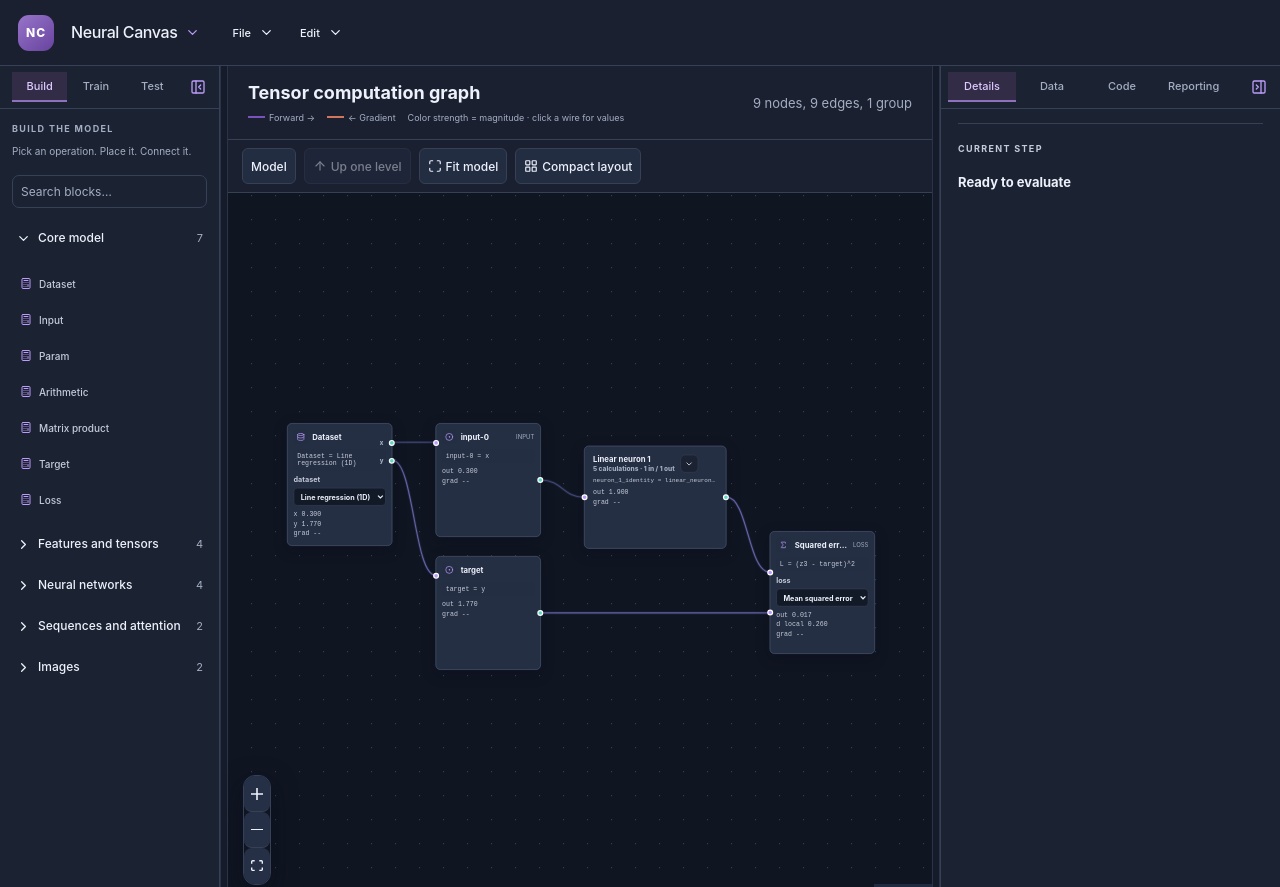
Test: Neural Canvas app › runs configured epochs by shortcut with the left sidebar collapsed and reports at the chosen interval
Click the tab "Train" at point(96, 87), box [68,72,124,102]
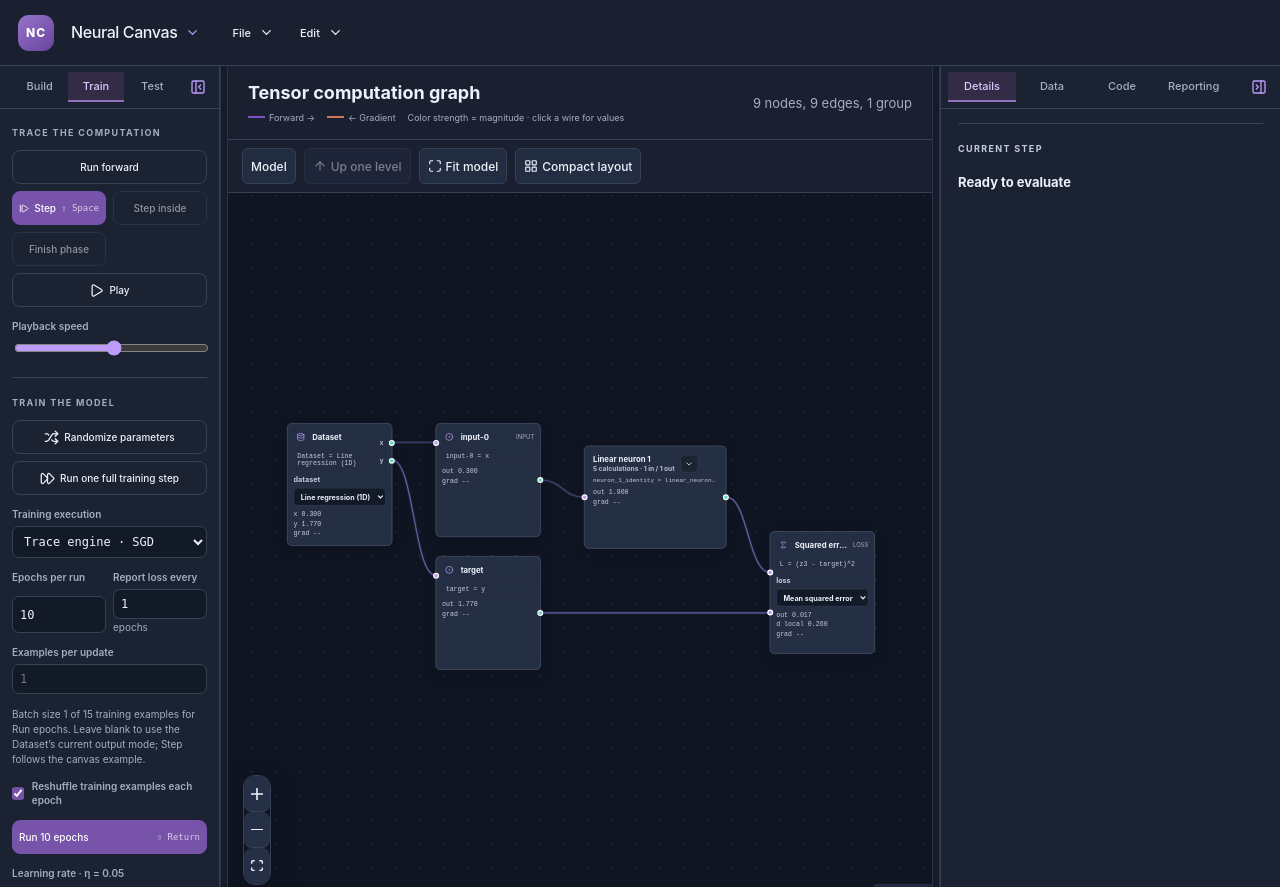
Replace the text in the number field labelled "Epochs per run" with "5" at point(59, 614), box [12,596,106,633]
Replace the text in the number field labelled "Report loss every epochs" with "2" at point(160, 604), box [113,589,207,619]
Click the button named "Collapse left sidebar" at point(198, 87), box [184,74,211,100]
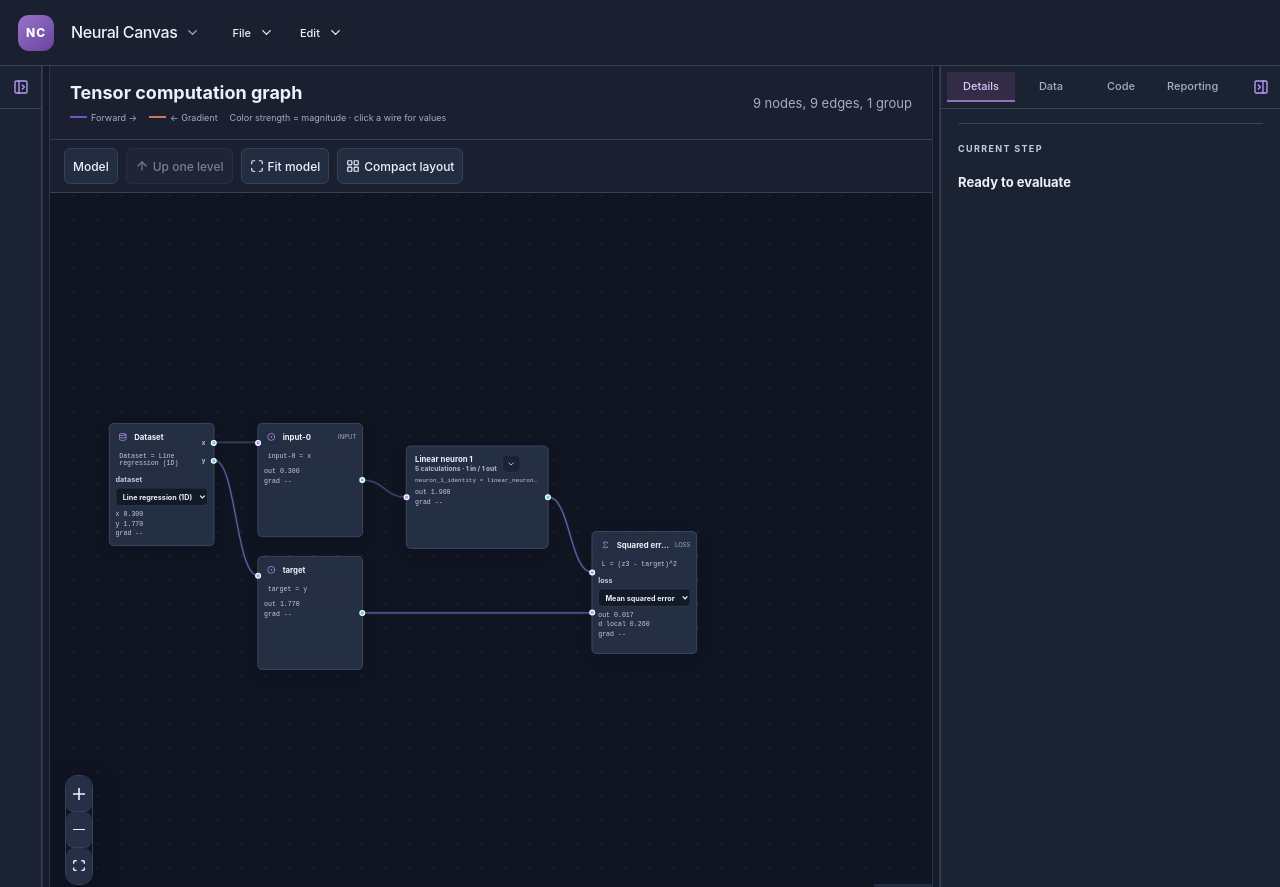
Press Enter
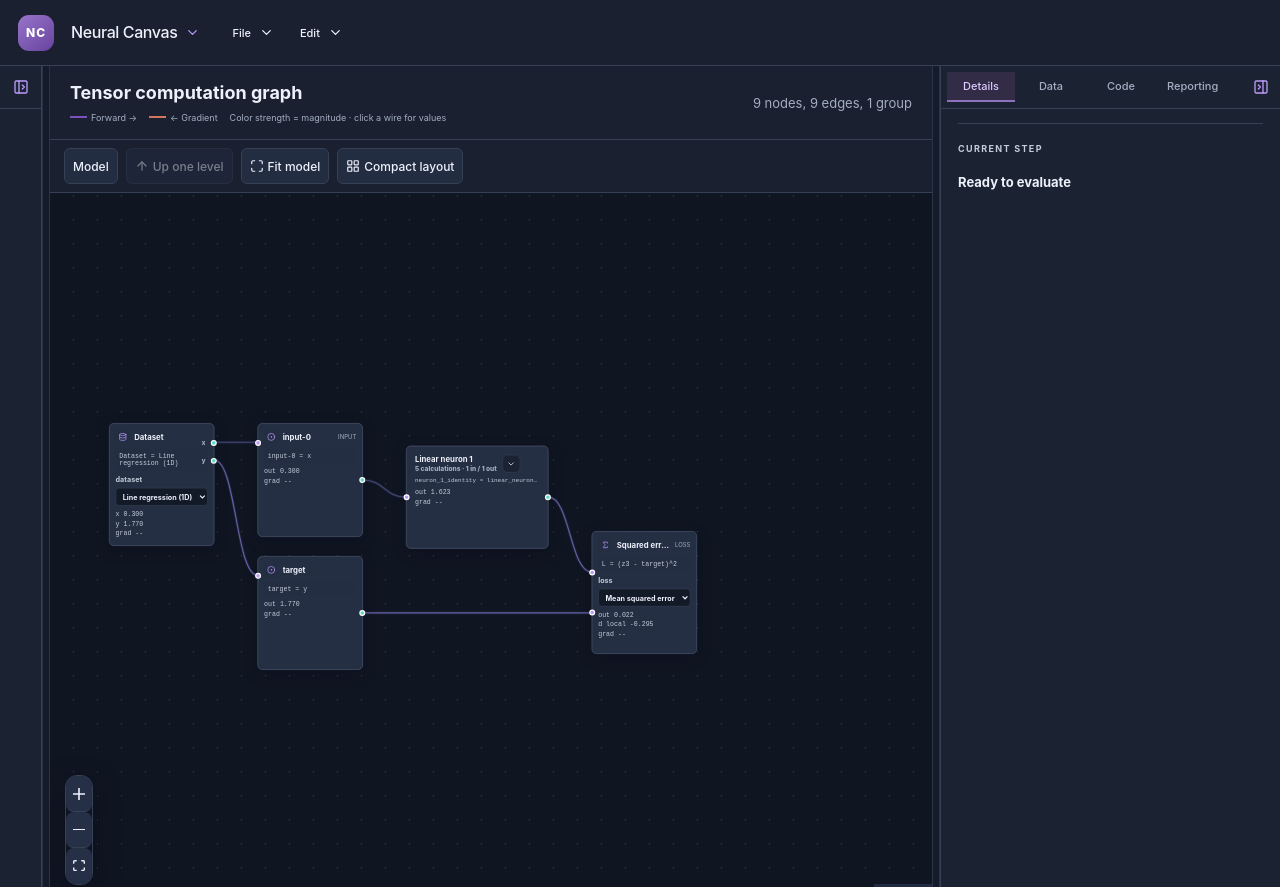
Click the tab "Reporting" at point(1193, 87), box [1157,72,1228,102]
(page scrolled)
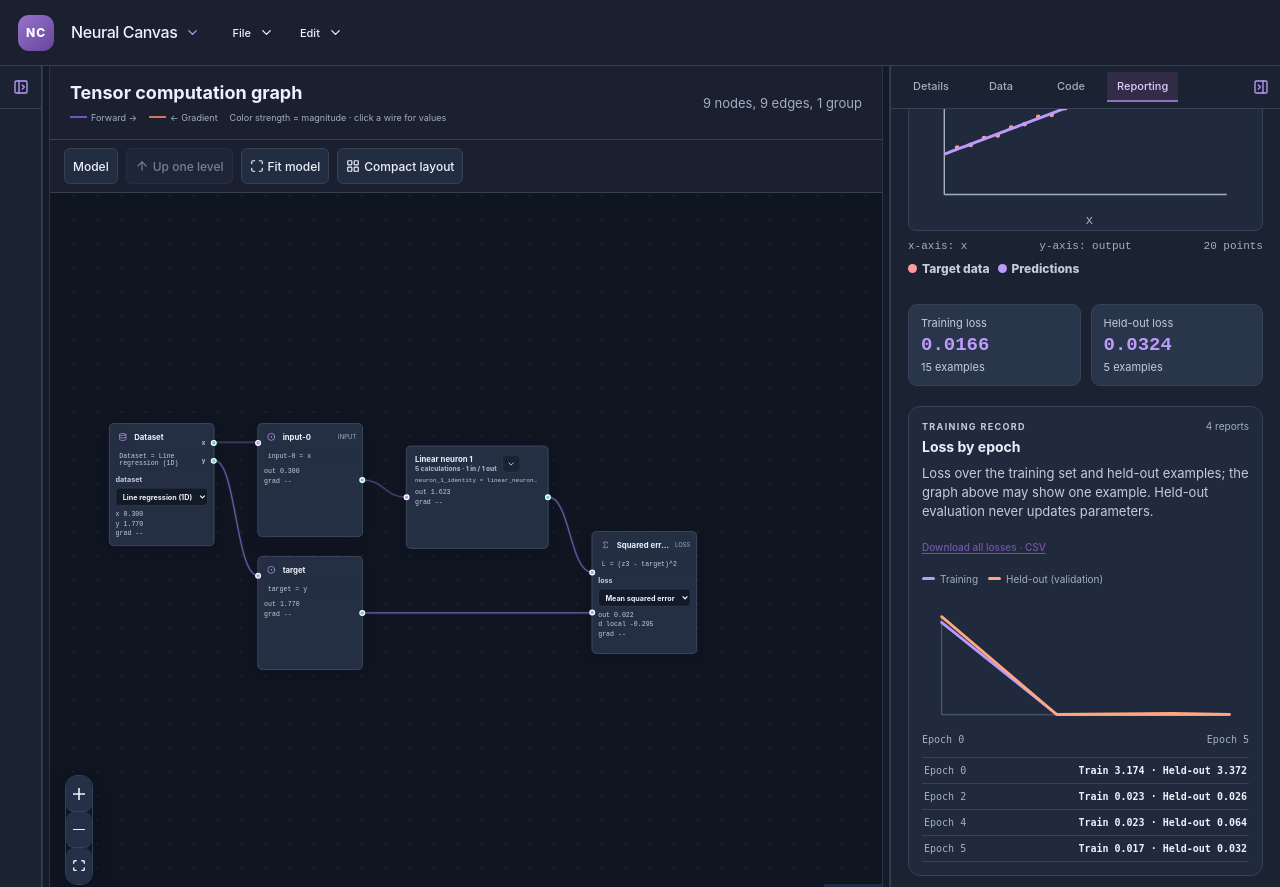
Expected: the picture named "Training and held-out loss chart" is shown, [922,597,1249,734]
Expected: the text "Held-out (validation)" is shown, [988,573,1103,585]
Expected: the list item "Epoch 0 Train 3.174 · Held-out 3.372" is shown, [922,758,1249,784]
Press Space
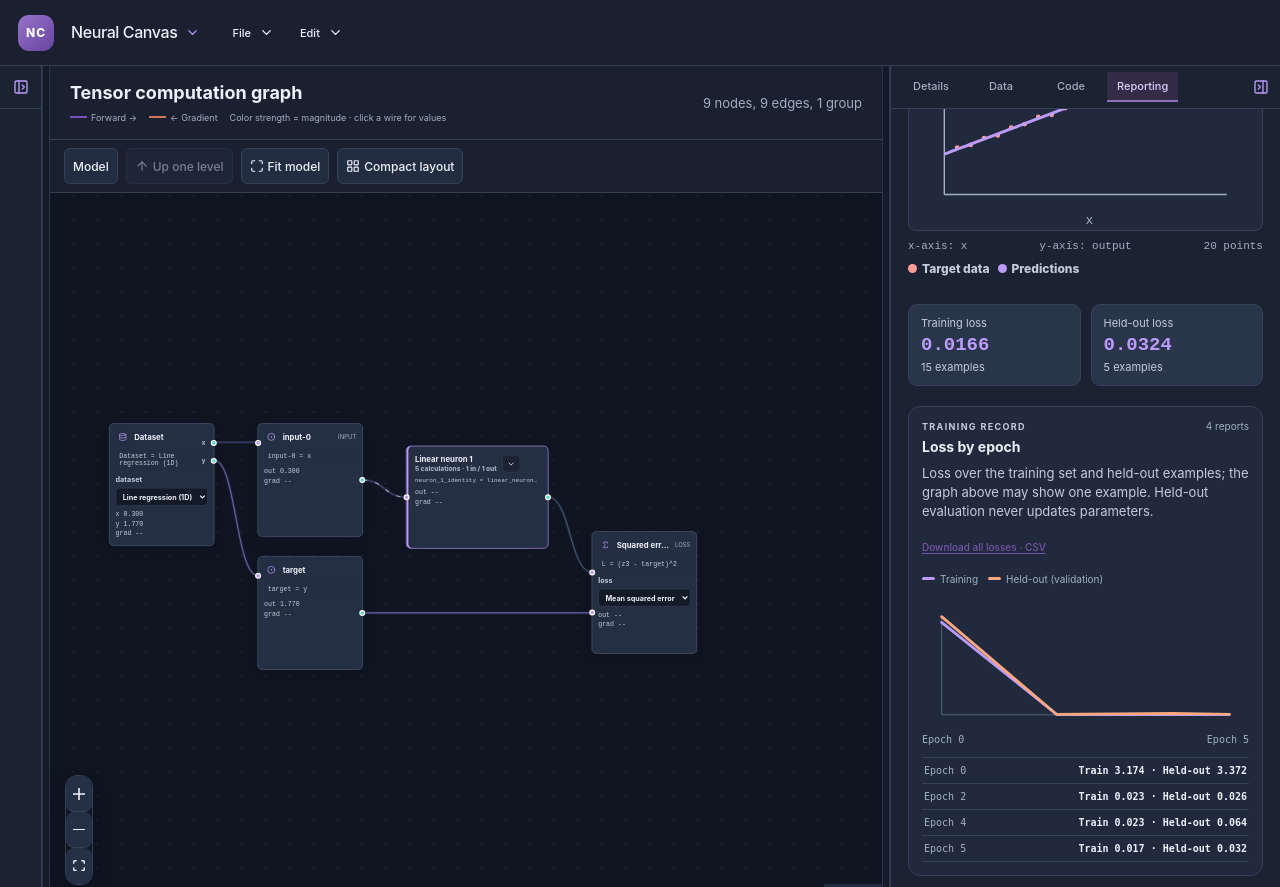
Click the tab "Details" at point(931, 87), box [897,72,965,102]
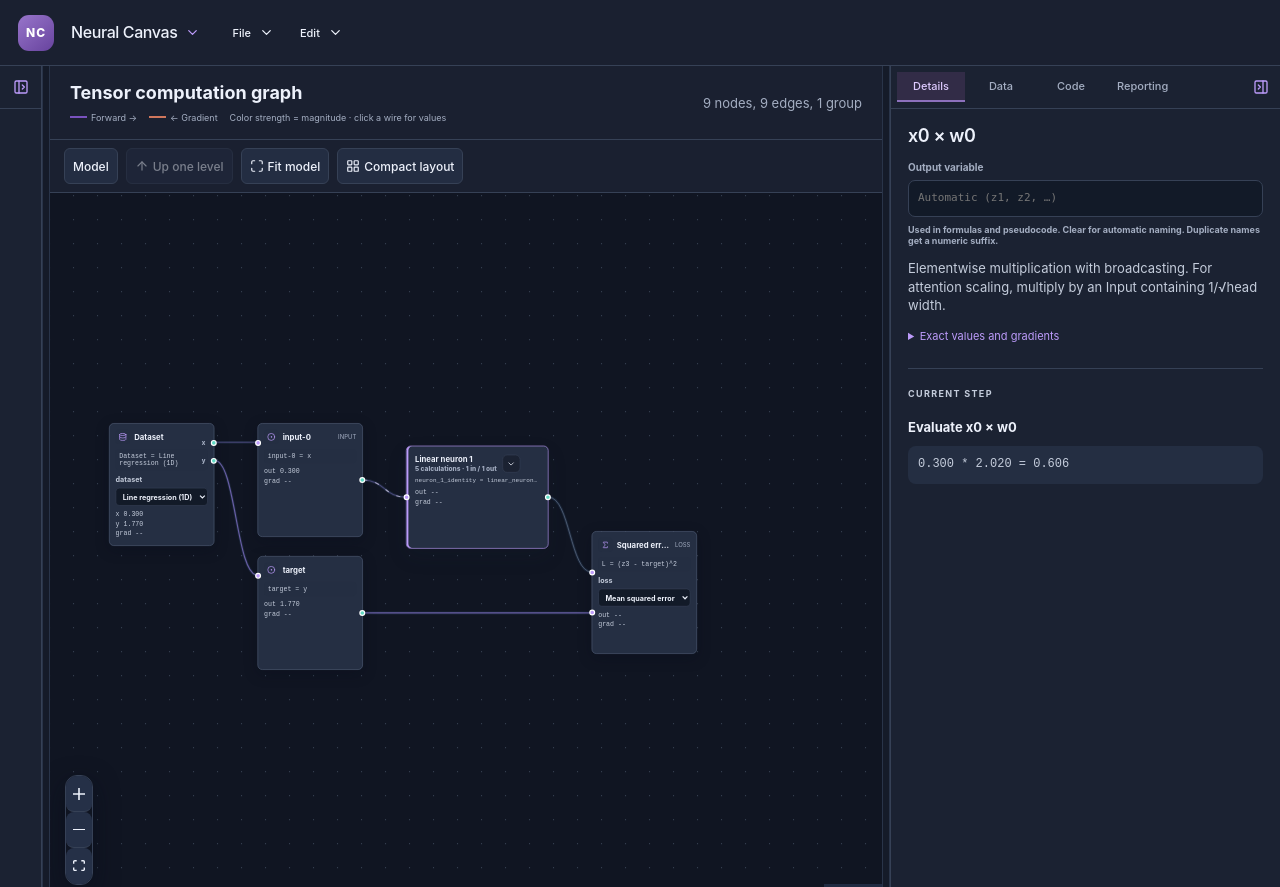
Expected: the heading "Evaluate x0 × w0" is shown, [908,419,1017,435]
